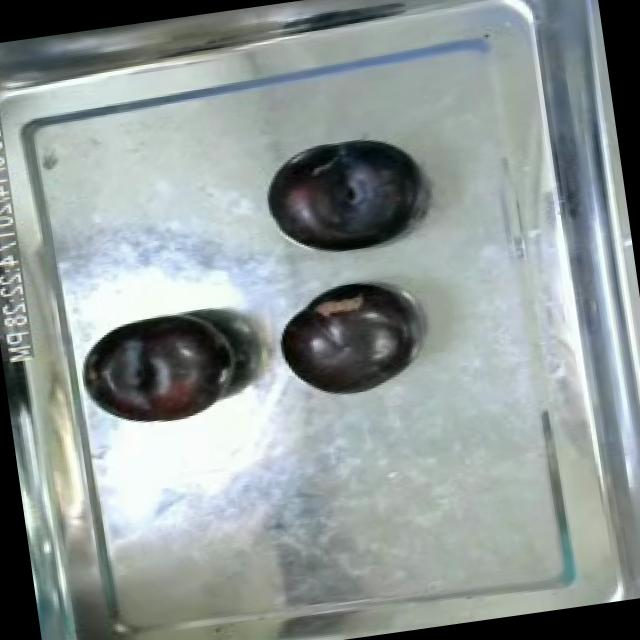Fruit: (253, 125, 432, 266), (75, 301, 244, 437), (265, 269, 422, 406)
